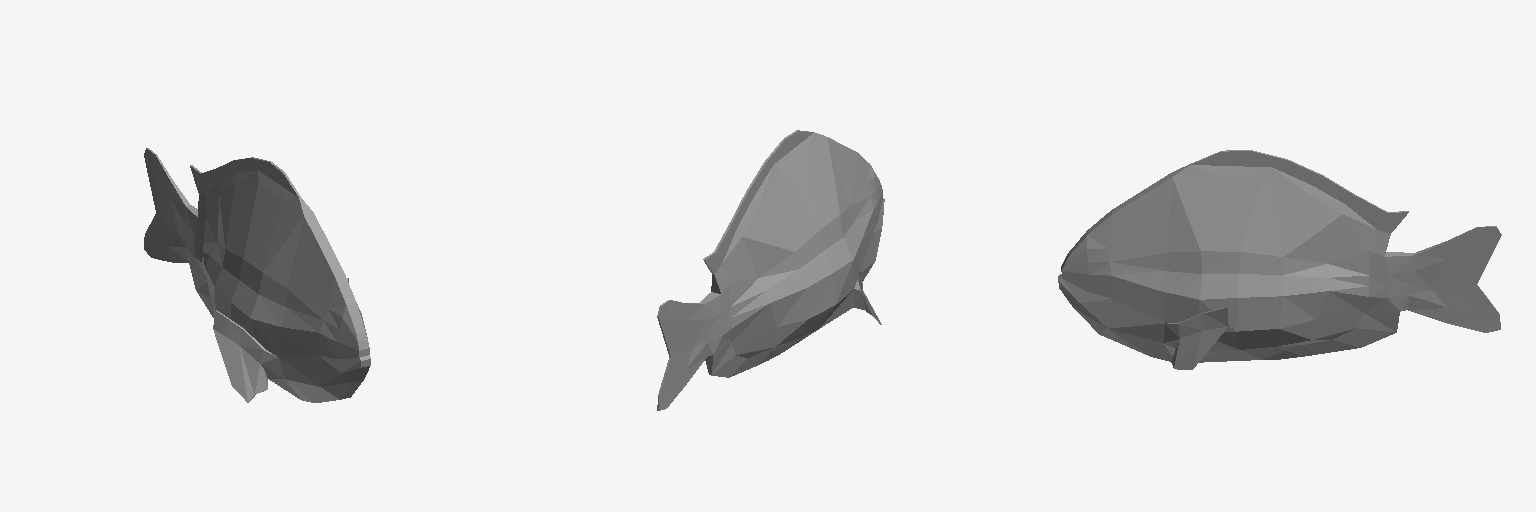
File: TropicalFish13.obj
3 renders of one model, left to right at view 1: azimuth 30°, elevation 25°; view 2: azimuth 150°, elevation 25°; view 3: azimuth 270°, elevation 25°, orthographic.
Visible parts, largest first — view 1: TropicalFish13; view 2: TropicalFish13; view 3: TropicalFish13.
Part boxes in pixels (x1,y1,x2,y2): TropicalFish13: (144, 148, 370, 402); TropicalFish13: (657, 130, 884, 410); TropicalFish13: (1058, 150, 1501, 369).
Bounding box in the file's own units: 162 × 238 × 453.